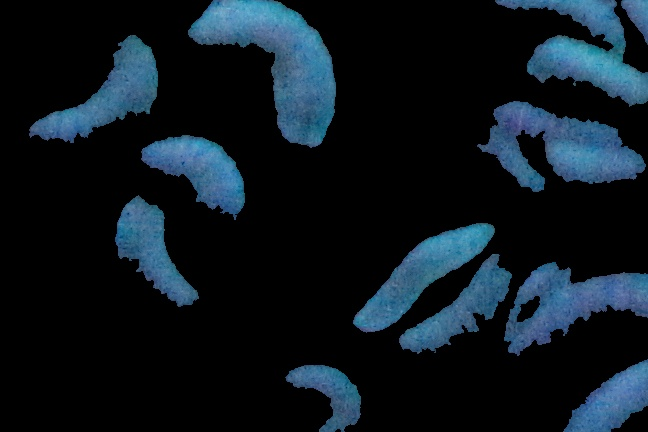larvae: (189, 1, 338, 149), (28, 33, 159, 147), (348, 220, 494, 321), (386, 251, 512, 351), (508, 277, 648, 356), (116, 195, 197, 309), (144, 134, 247, 219), (527, 36, 648, 108), (485, 1, 626, 49), (559, 357, 648, 432), (486, 100, 623, 145), (284, 365, 364, 432), (547, 138, 644, 189), (500, 264, 567, 335)
